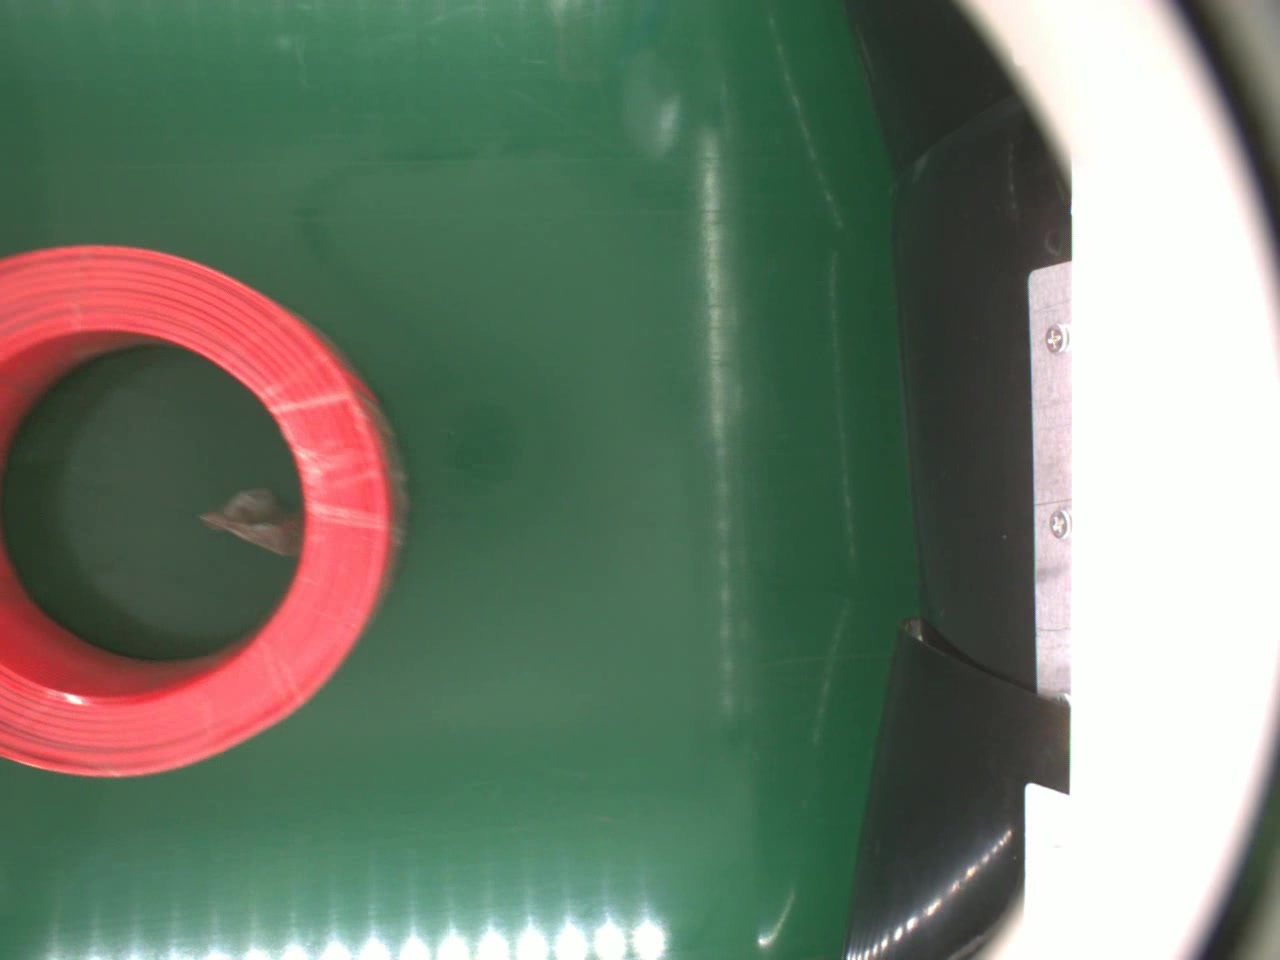red: (0, 241, 407, 777)
